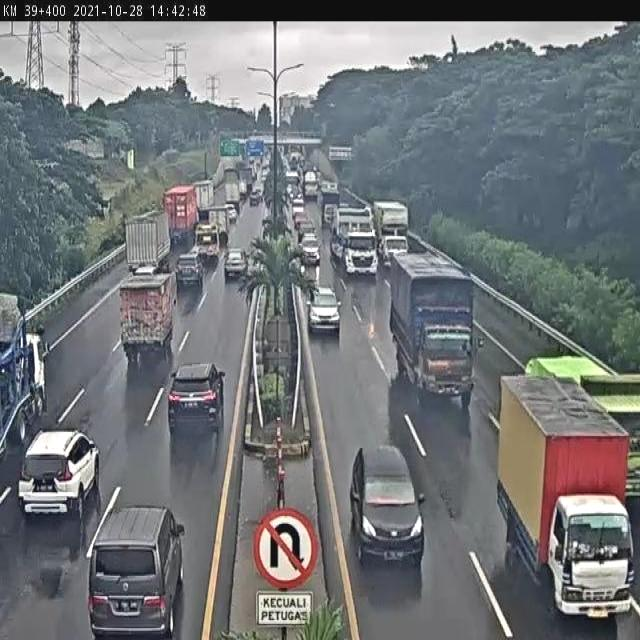Car: (349, 442, 427, 570), (18, 426, 100, 528), (167, 362, 226, 432)
Truck: (494, 370, 638, 620), (388, 248, 484, 411), (114, 269, 180, 366), (124, 205, 174, 275)
Van: (88, 503, 186, 639)
